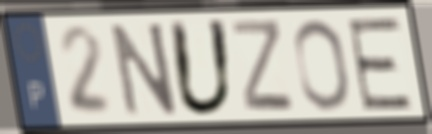2: (57, 22, 116, 118)
E: (344, 14, 416, 113)
N: (107, 19, 181, 120)
O: (291, 16, 354, 114)
U: (165, 17, 237, 120)
Z: (229, 16, 297, 115)
